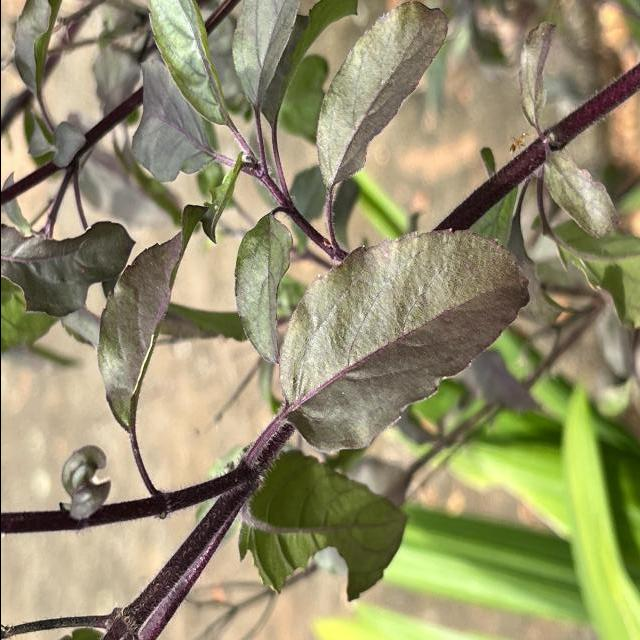Ocimum tenuiflorum: (274, 224, 532, 456)
